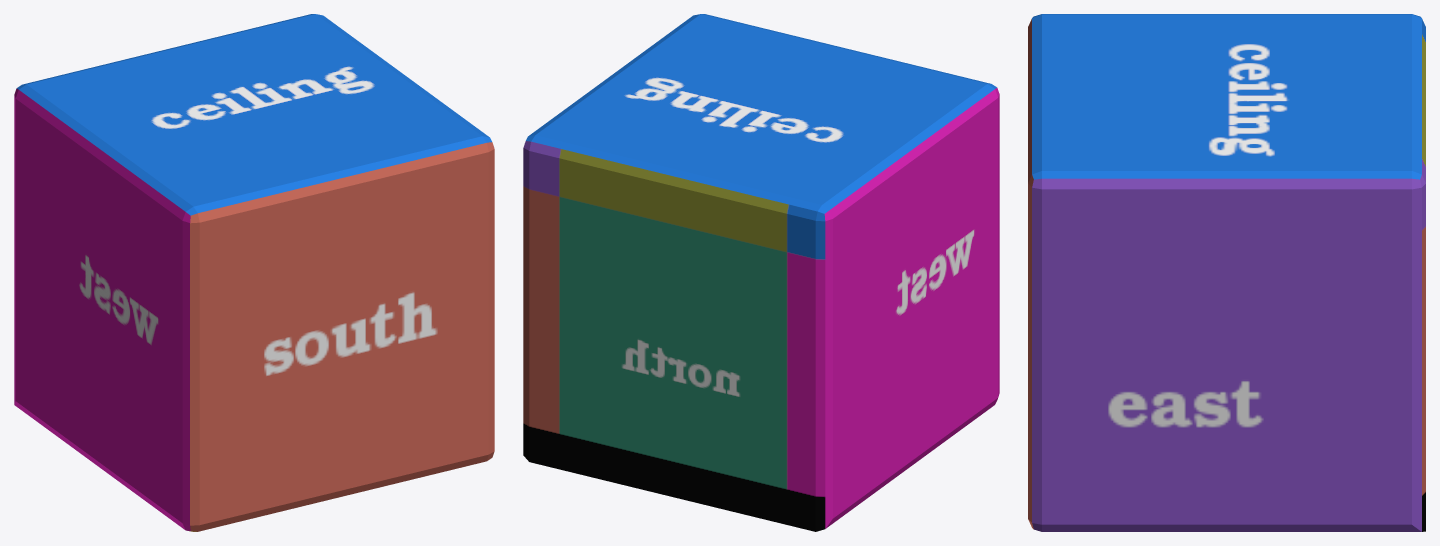
Rendered from test_room.dae.
3 views of the same model, side by side, from view 1: azimuth 30°, elevation 25°; view 2: azimuth 150°, elevation 25°; view 3: azimuth 270°, elevation 25° (orthographic). The views are drawn at different scales.
Parts seen in each view (by area): view 1: Cube; view 2: Cube; view 3: Cube.
Part boxes in pixels (x1,y1,x2,y2): Cube: [14, 14, 494, 531]; Cube: [523, 14, 999, 531]; Cube: [1028, 14, 1425, 531].
Size of the model in its own units: 2 by 2 by 2.
1 material, 1 textured.
